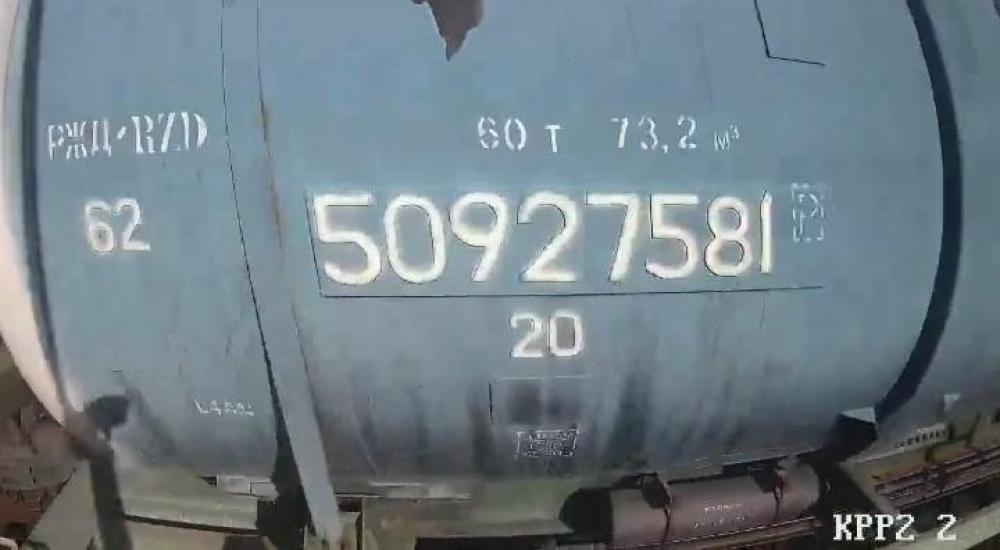Wagon-number: (310, 188, 782, 290)
